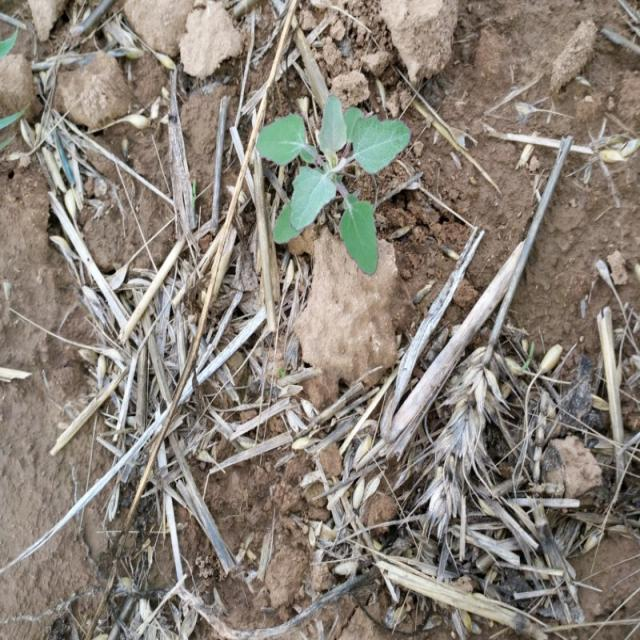goosefoots: (262, 67, 420, 265)
